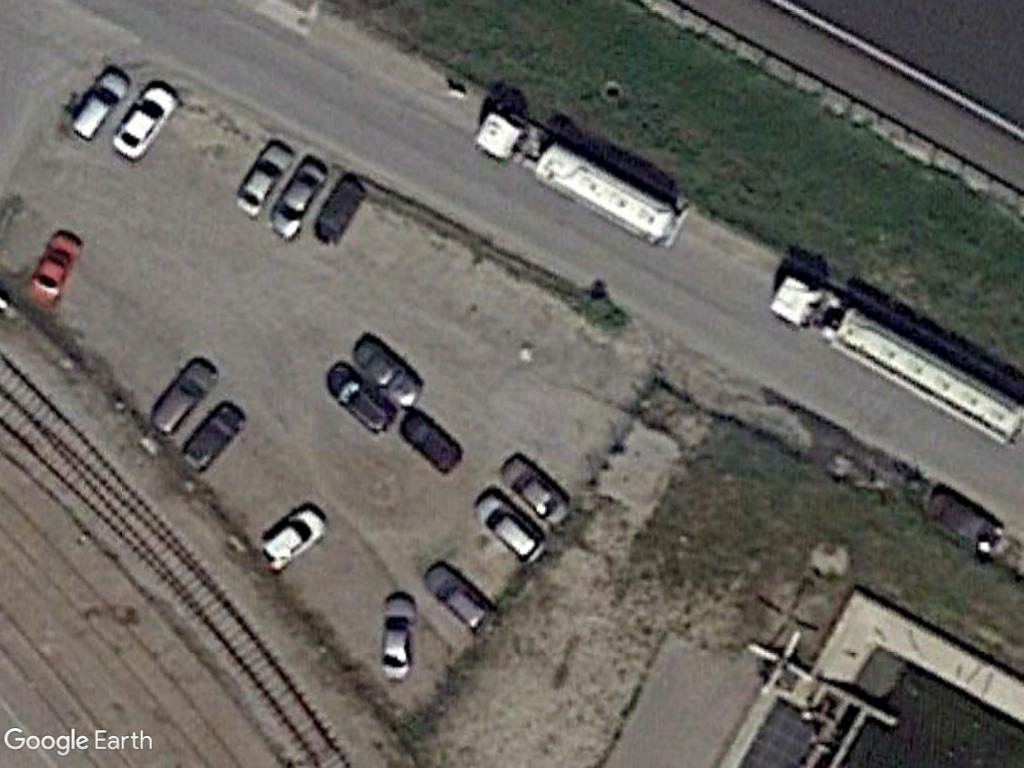car: (144, 358, 220, 443), (107, 80, 182, 161), (470, 490, 548, 566), (499, 453, 574, 530), (323, 361, 397, 435), (423, 559, 495, 634), (233, 137, 298, 217), (351, 335, 424, 406), (67, 68, 134, 145), (267, 158, 328, 241), (257, 503, 325, 573), (380, 590, 419, 679)
